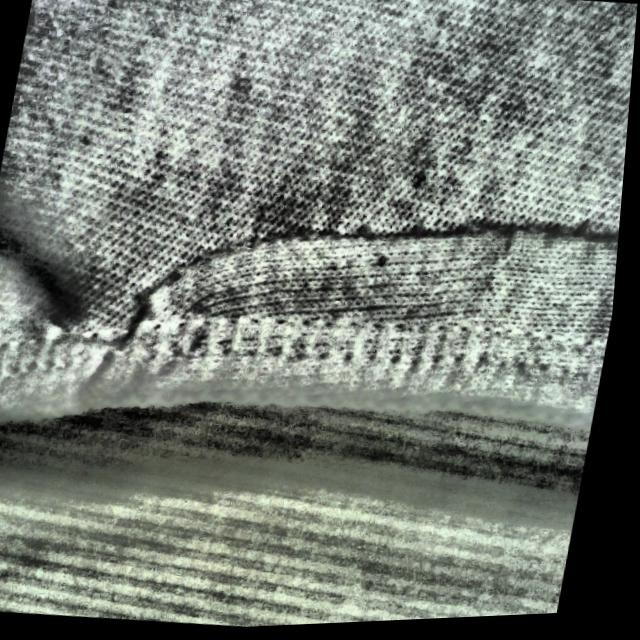seam: (96, 101, 629, 453)
